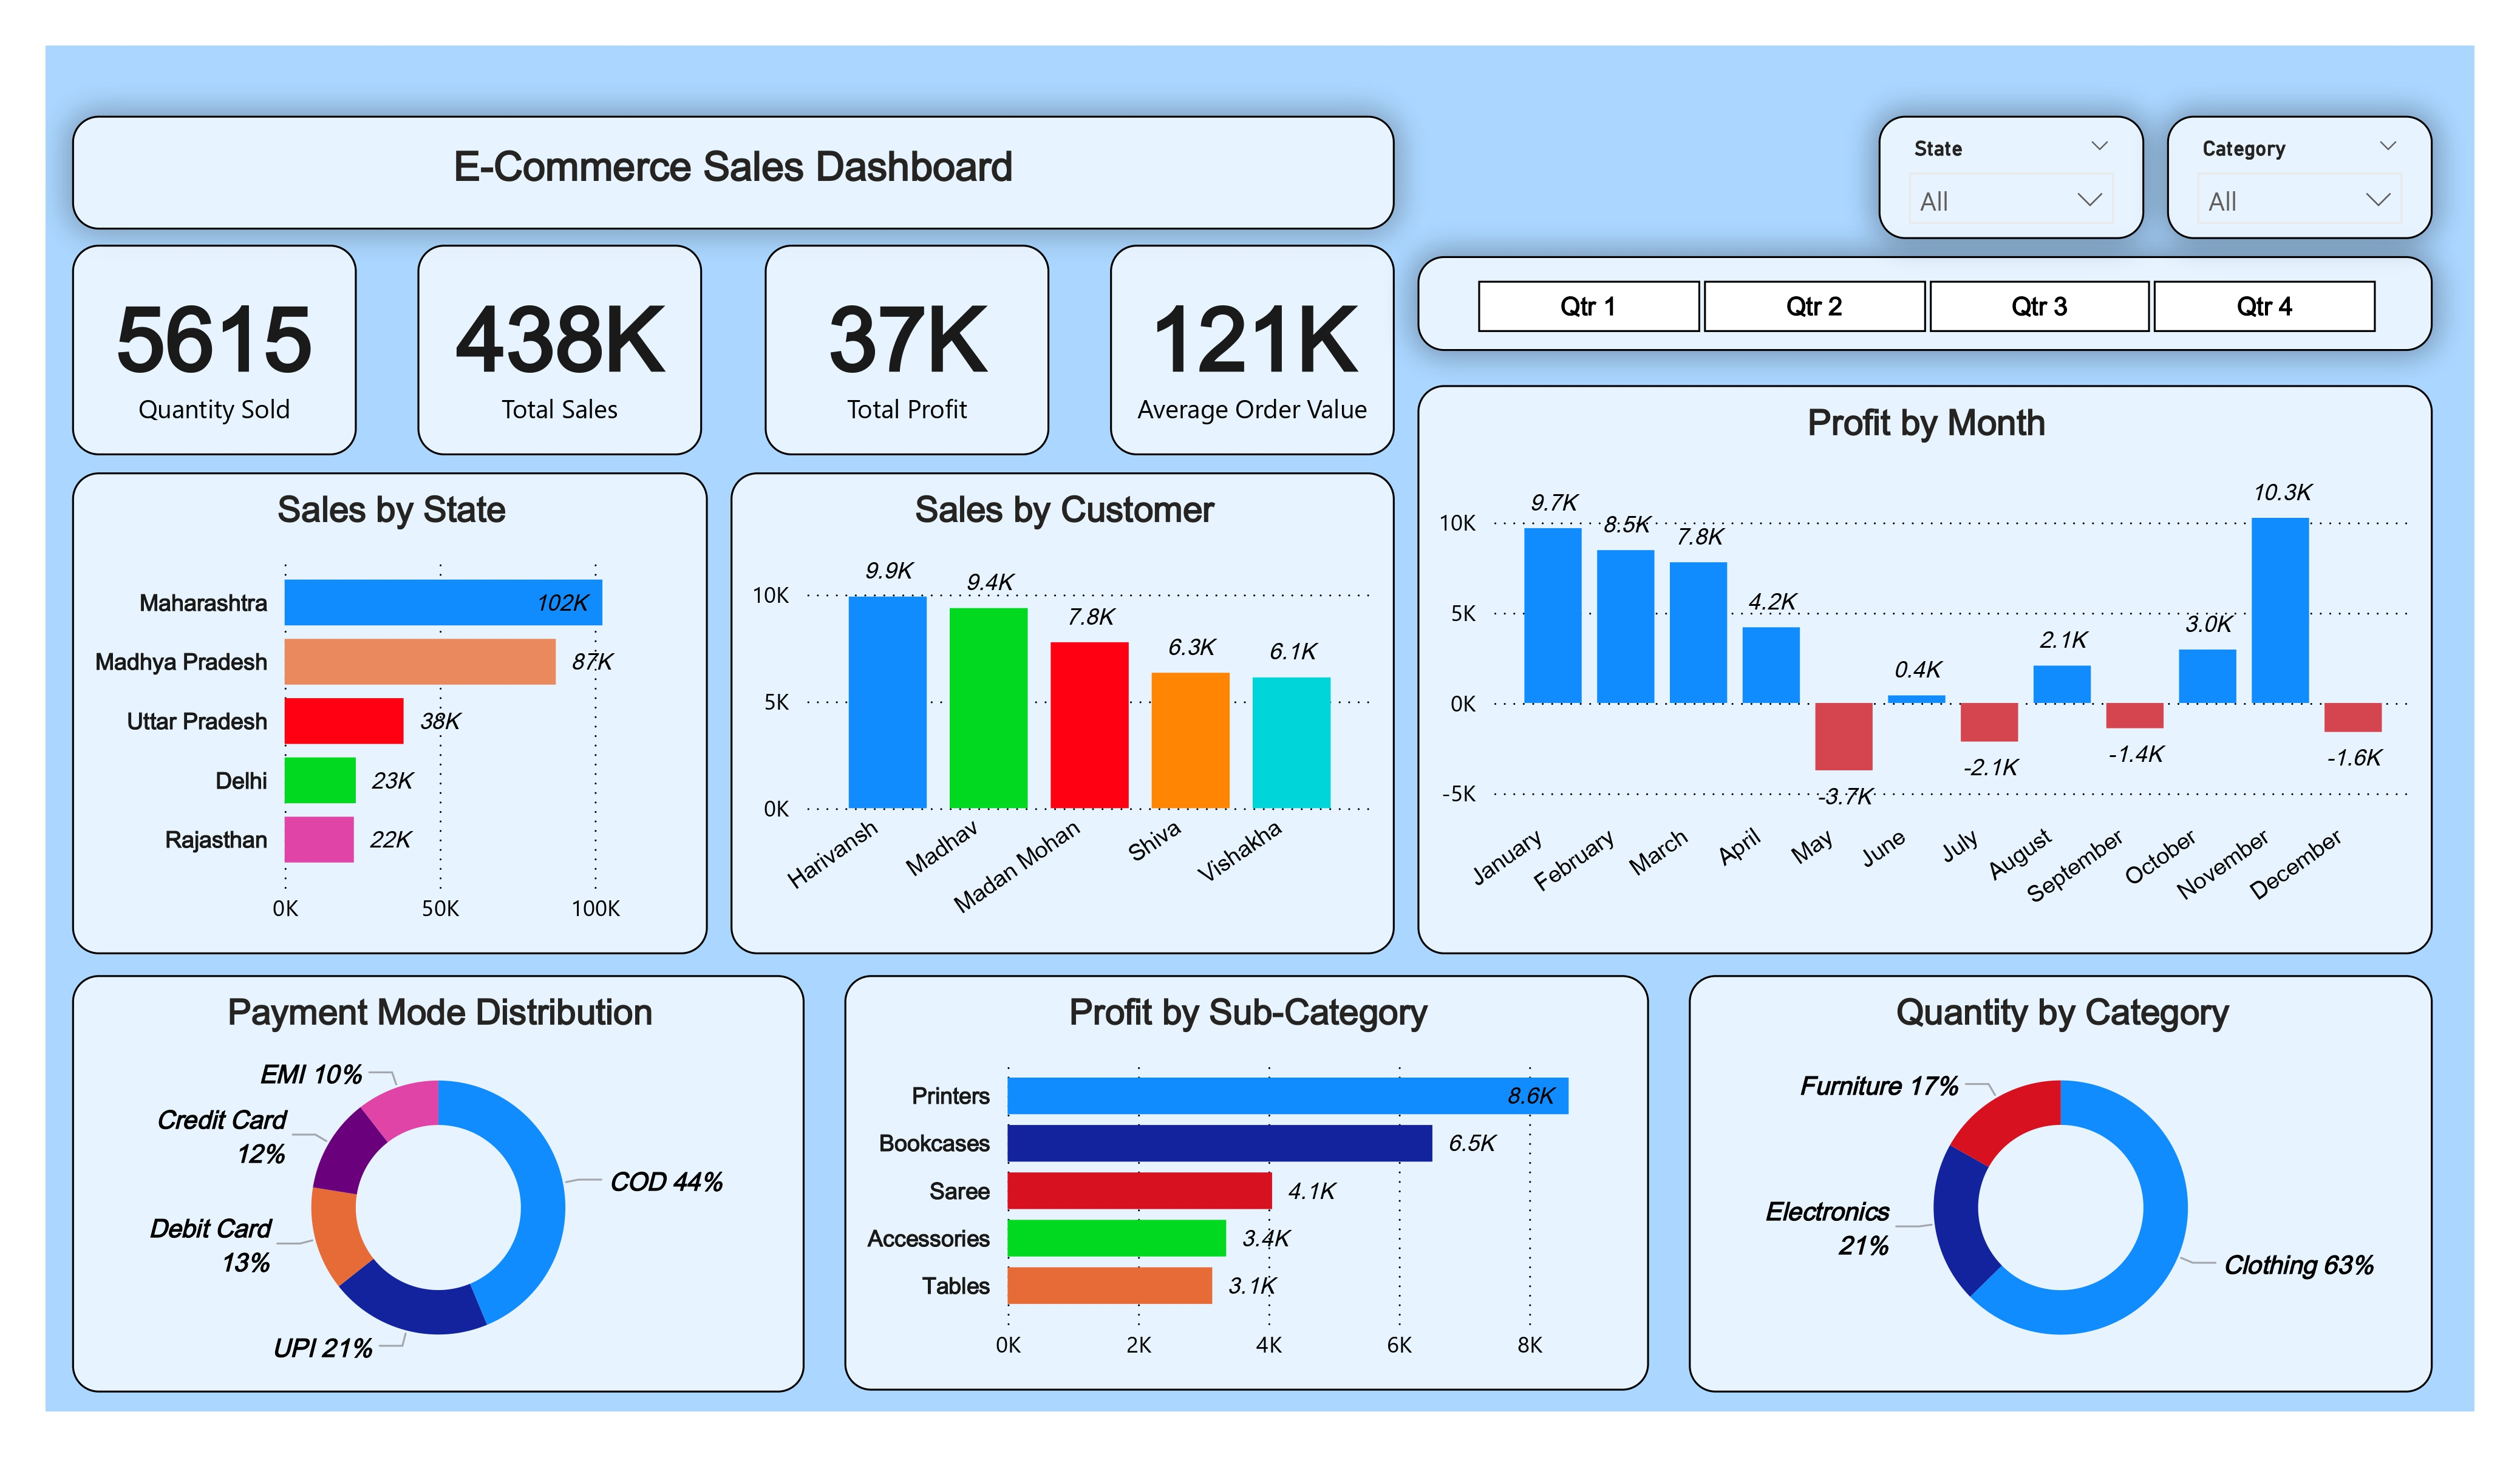

What the dashboard file says about the page in this screenshot:
{"tool":"powerbi","page":{"name":"Page 1","canvas":[1280,720],"ordinal":0},"visuals":[{"type":"textbox","box":[14,37,697,60],"z":0},{"type":"columnChart","title":"Profit by Month","fields":{"Y":["Details.Profit"],"Category":["Orders.Order Date.Variation.Date Hierarchy.Month"]},"box":[723,179,535,300],"z":1000},{"type":"barChart","title":"Profit by Sub-Category","fields":{"Category":["Details.Sub-Category"],"Y":["Details.Profit"]},"box":[421.3,490,423.3,218.9],"z":2000},{"type":"donutChart","title":"Quantity by Category","fields":{"Y":["Details.Quantity"],"Category":["Details.Category"]},"box":[866,490,392.2,220],"z":3000},{"type":"donutChart","title":"Payment Mode Distribution","fields":{"Category":["Details.PaymentMode"],"Y":["Details.Quantity"]},"box":[14,490,386,220],"z":4000},{"type":"card","fields":{"Values":["Details.Amount"]},"box":[196.3,105,150,111],"z":5000},{"type":"card","fields":{"Values":["Details.Profit"]},"box":[378.7,105,150,111],"z":6000},{"type":"card","fields":{"Values":["Details.Average Order Value"]},"box":[561,105,150,111],"z":7000},{"type":"card","fields":{"Values":["Details.Quantity"]},"box":[14,105,150,111],"z":8000},{"type":"barChart","title":"Sales by State","fields":{"Y":["Details.Amount"],"Category":["Orders.State"]},"box":[14,225,335,254],"z":9000},{"type":"columnChart","title":"Sales by Customer","fields":{"Category":["Orders.CustomerName"],"Y":["Details.Amount"]},"box":[361,225,350,254],"z":10000},{"type":"slicer","fields":{"Values":["Orders.Order Date.Variation.Date Hierarchy.Quarter"]},"box":[723,111,535,50],"z":11000},{"type":"slicer","title":"State","fields":{"Values":["Orders.State"]},"box":[966,37,140,65],"z":12000},{"type":"slicer","title":"Category","fields":{"Values":["Details.Category"]},"box":[1118,37,140,65],"z":13000}]}

Visuals, with their boxes on the page's 1280x720 design canvas (x1, y1, x2, y2). These are canvas units, not pixel positions in the 2520x1457 screenshot, which may show the page scaled, cropped or inside an application window:
textbox: (x1=14, y1=37, x2=711, y2=97)
"Profit by Month" columnChart: (x1=723, y1=179, x2=1258, y2=479)
"Profit by Sub-Category" barChart: (x1=421, y1=490, x2=845, y2=709)
"Quantity by Category" donutChart: (x1=866, y1=490, x2=1258, y2=710)
"Payment Mode Distribution" donutChart: (x1=14, y1=490, x2=400, y2=710)
card - Details.Amount: (x1=196, y1=105, x2=346, y2=216)
card - Details.Profit: (x1=379, y1=105, x2=529, y2=216)
card - Details.Average Order Value: (x1=561, y1=105, x2=711, y2=216)
card - Details.Quantity: (x1=14, y1=105, x2=164, y2=216)
"Sales by State" barChart: (x1=14, y1=225, x2=349, y2=479)
"Sales by Customer" columnChart: (x1=361, y1=225, x2=711, y2=479)
slicer - Orders.Order Date.Variation.Date Hierarchy.Quarter: (x1=723, y1=111, x2=1258, y2=161)
"State" slicer: (x1=966, y1=37, x2=1106, y2=102)
"Category" slicer: (x1=1118, y1=37, x2=1258, y2=102)
